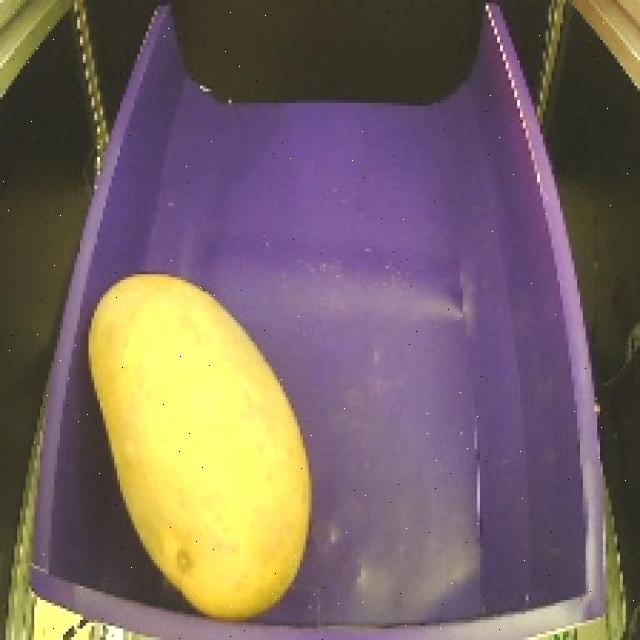full_potato: (73, 264, 320, 623)
